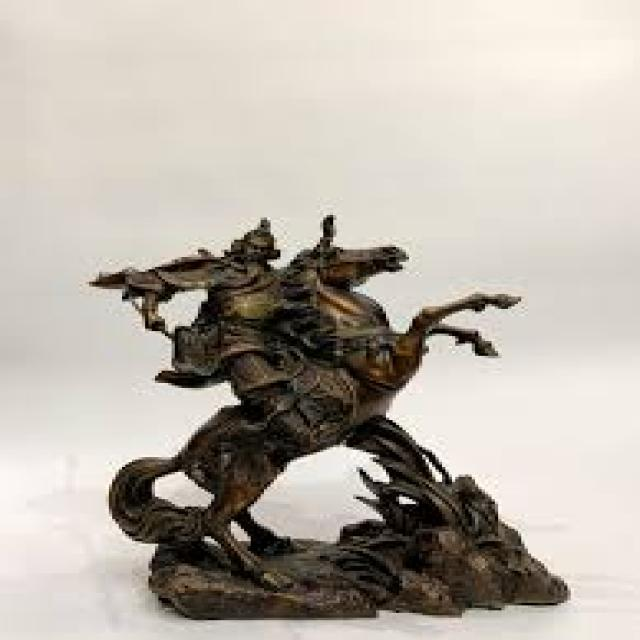Guan Yu: (168, 215, 304, 396)
